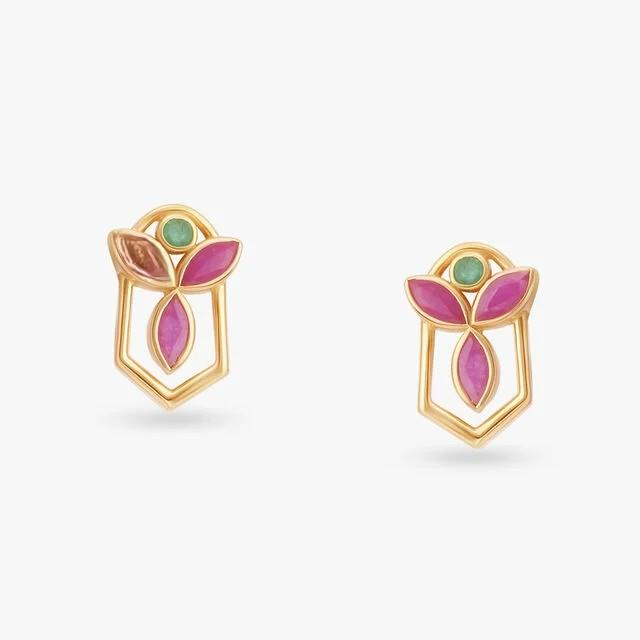missing gem: (114, 234, 173, 282)
